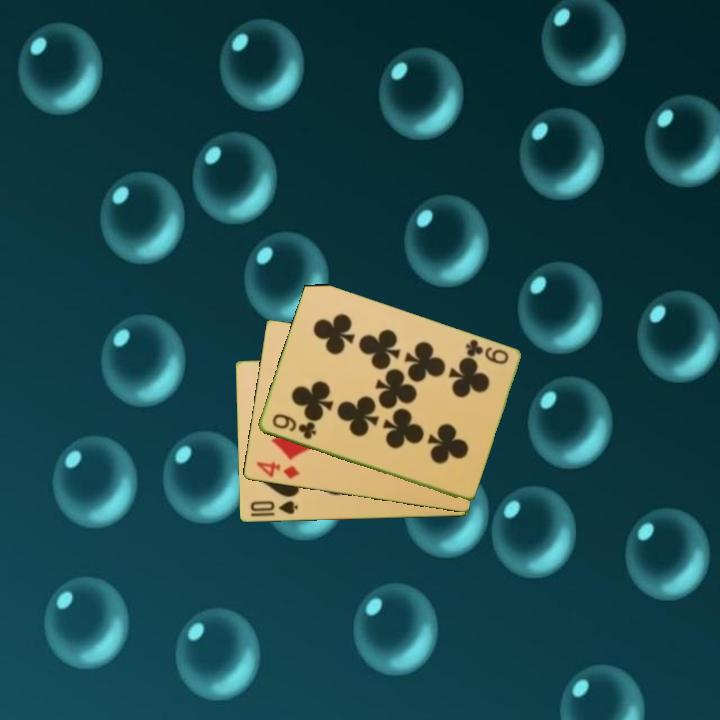10s: (247, 498, 300, 517)
4d: (252, 458, 302, 482)
9c: (268, 410, 319, 442), (461, 336, 511, 367)
